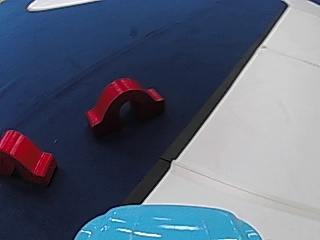bridge: (83, 73, 167, 135), (1, 127, 58, 188)
